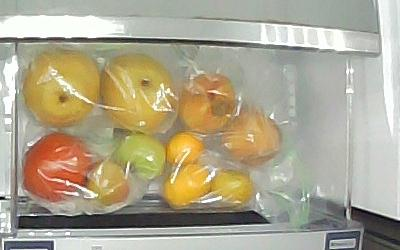peach_vinyl: (221, 111, 283, 166), (181, 72, 236, 133)
pear_vinyl: (25, 49, 100, 127), (100, 54, 175, 131)
tangerine_vinyl: (166, 164, 209, 209), (210, 169, 254, 210), (165, 132, 206, 165)
tomato_vinyl: (24, 133, 91, 203), (112, 134, 165, 180), (86, 162, 130, 205)
